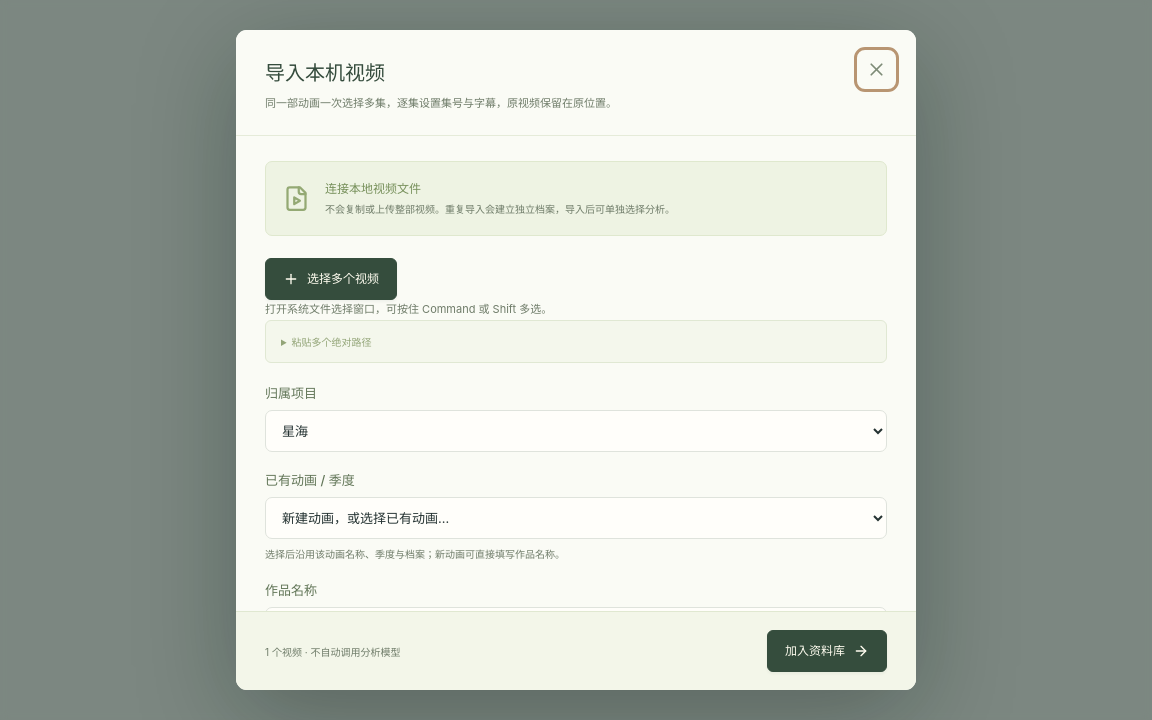
Scenario: Native multi-file selection and import › chooses multiple videos through Finder and submits their local paths in episode order
What coordinates should you click on to do the following:
click the button "选择多个视频"
I would click on:
 (331, 279)
Its box is [265,258,397,300].
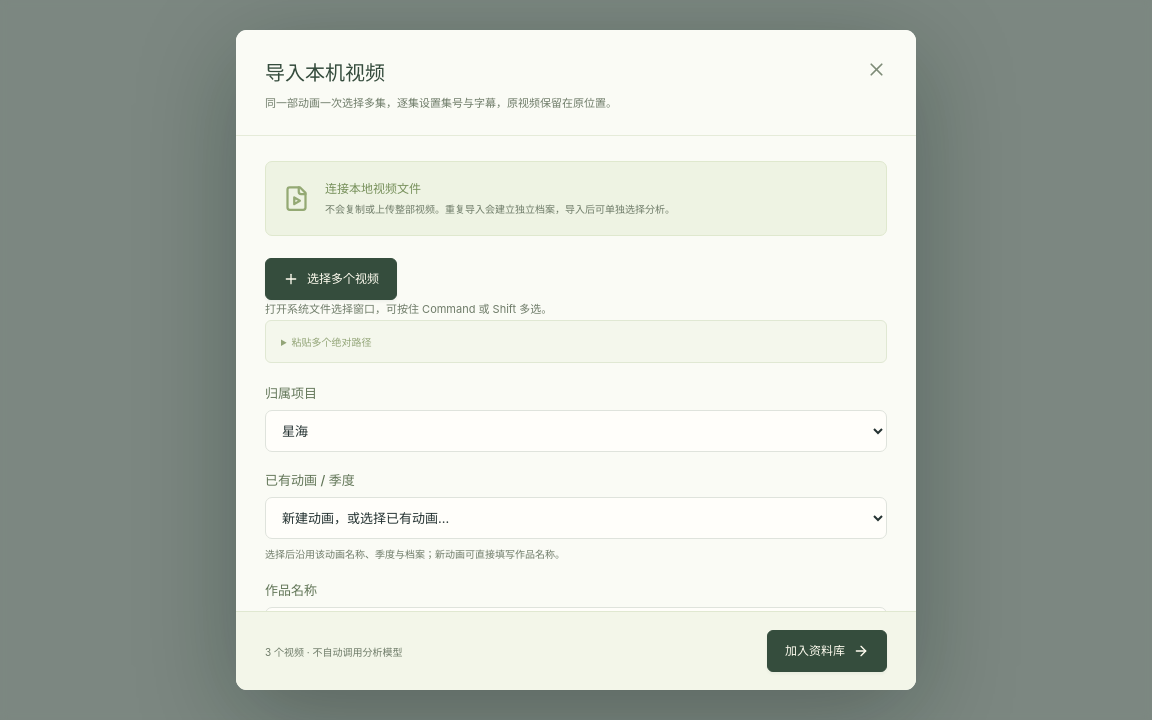
What coordinates should you click on to do the following:
click the button "加入资料库"
I would click on:
 (827, 651)
Its box is [767,630,887,672].
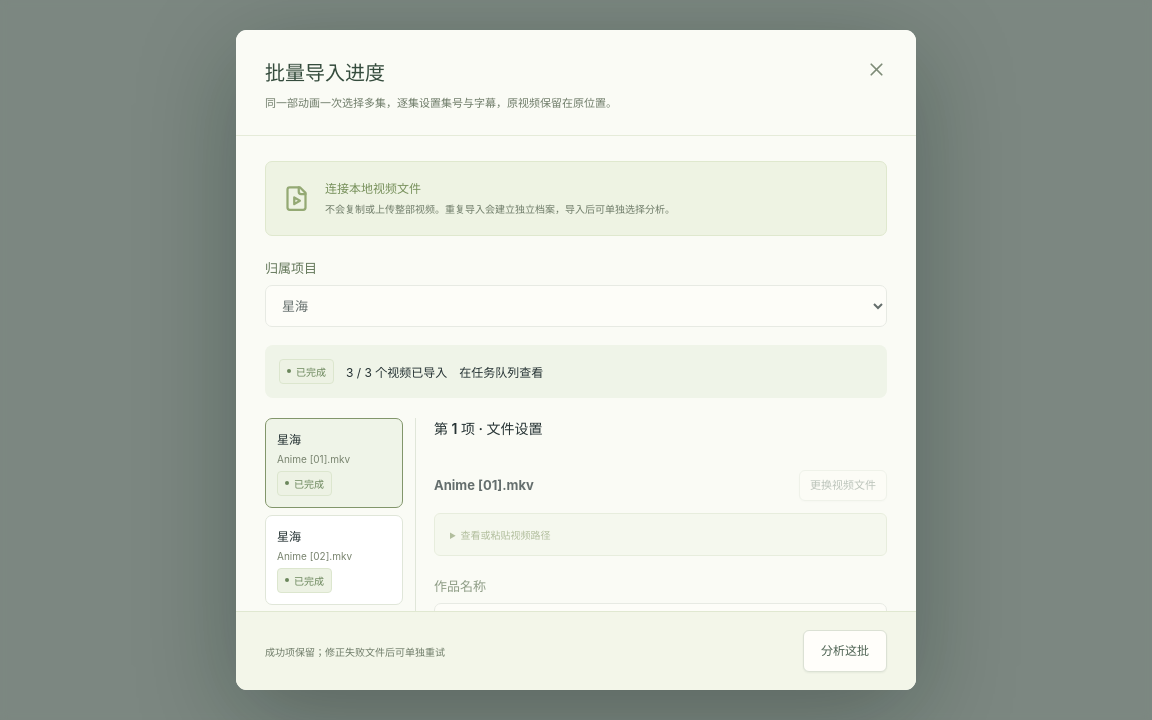
Check: the dialog "批量导入进度" is shown, box [236,30,916,690]
